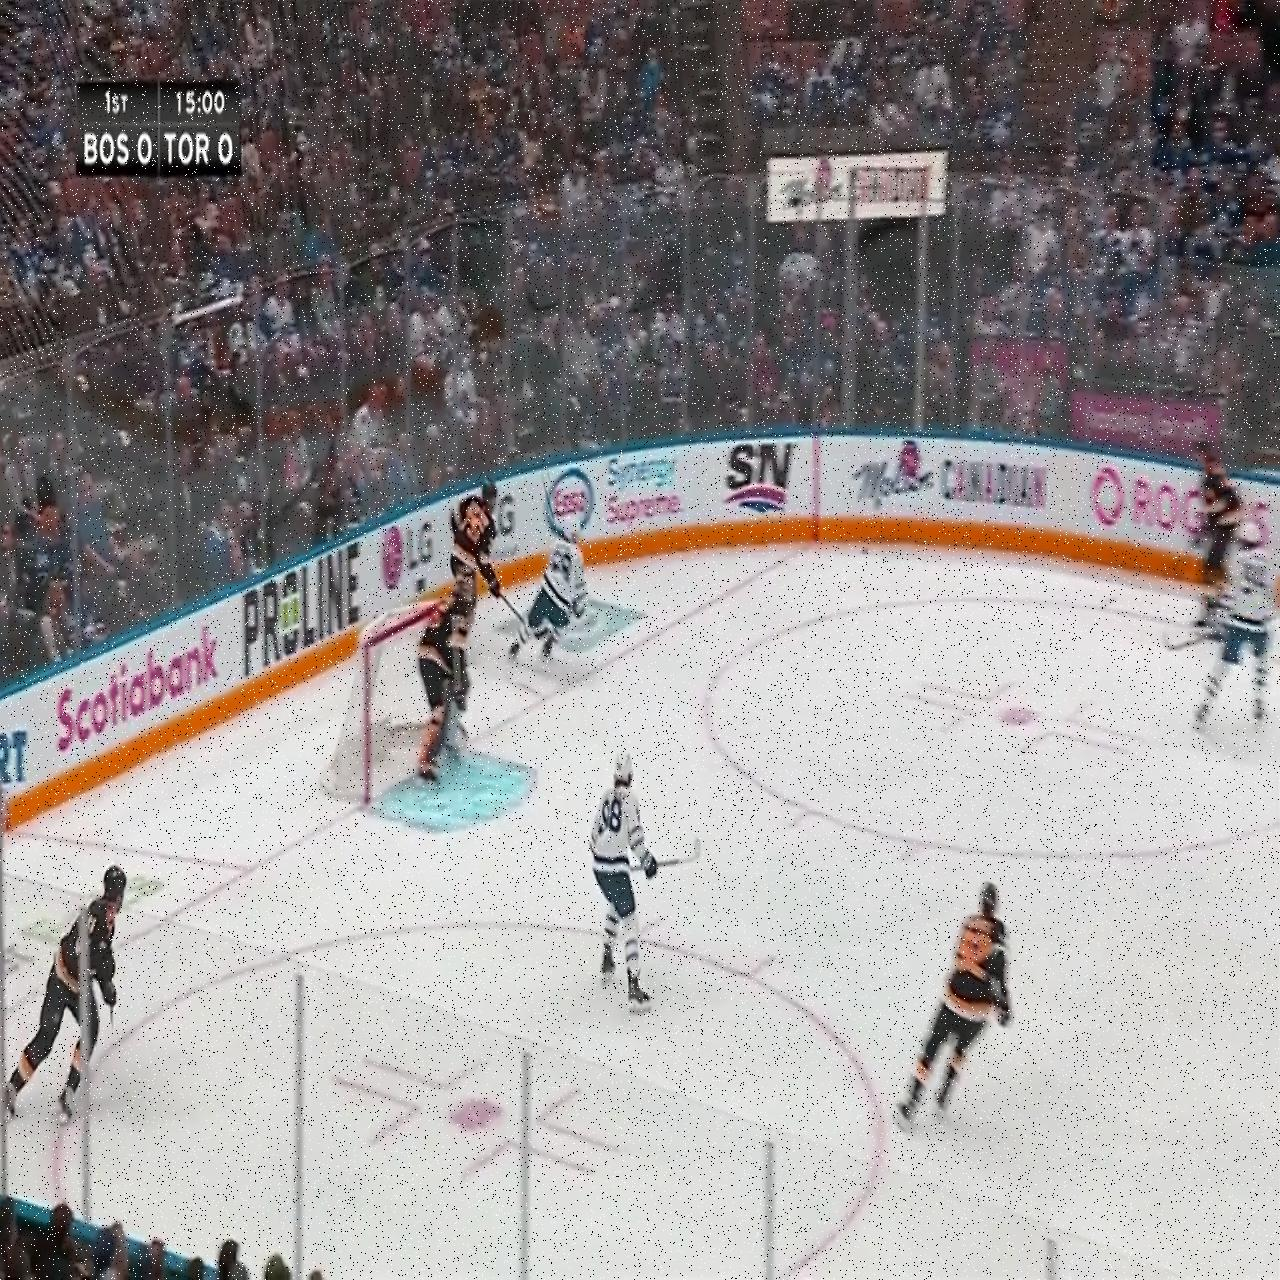Ad: (51, 614, 218, 787), (241, 534, 362, 684), (854, 446, 1056, 522), (1085, 472, 1277, 548), (719, 428, 804, 526), (596, 442, 690, 529), (380, 495, 436, 600), (538, 454, 599, 545)
